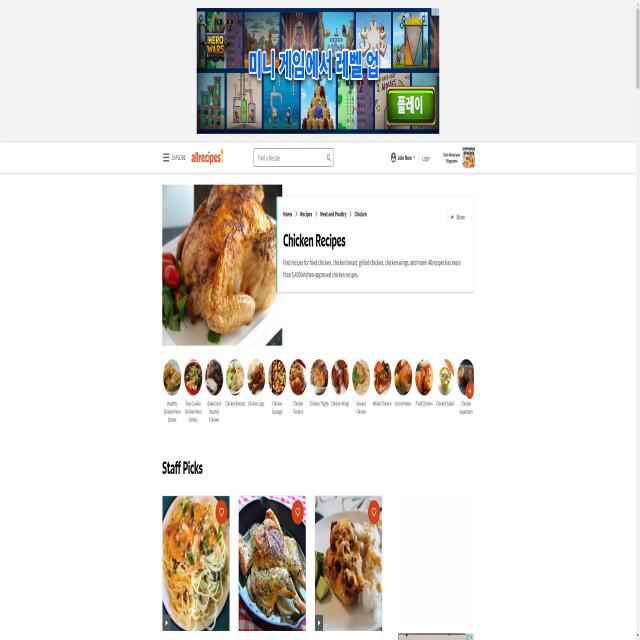search: (252, 148, 336, 166)
